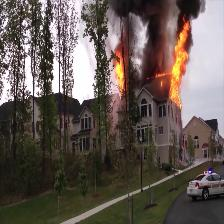fire: (173, 31, 185, 102), (114, 54, 126, 87)
smoke: (138, 0, 169, 76), (176, 0, 204, 19)
